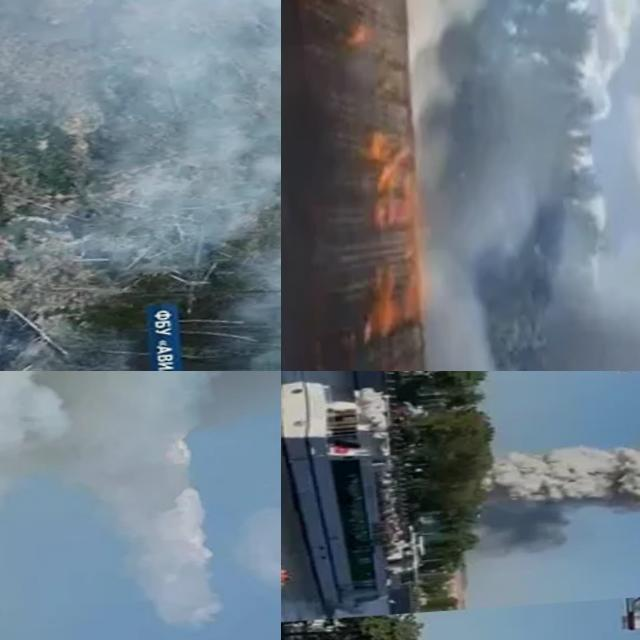smoke: (0, 371, 268, 574), (409, 135, 538, 371), (478, 412, 640, 536), (393, 0, 513, 123), (531, 263, 640, 371)
